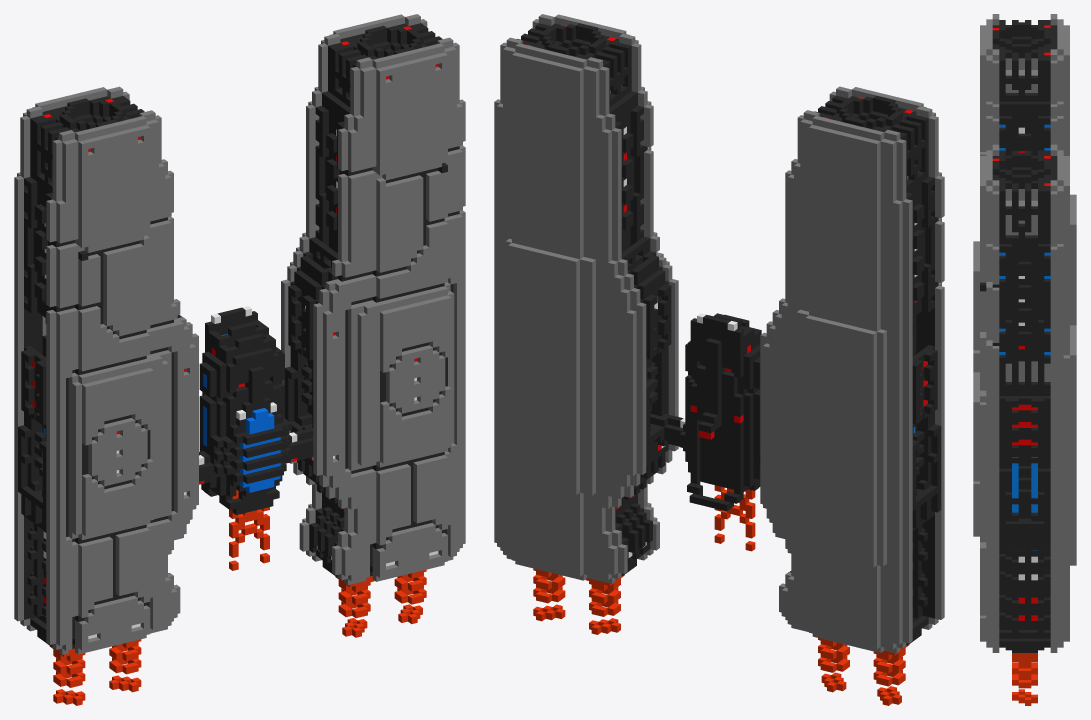
File: DualStriker.glb
The picture shows the model from 3 angles, left to right: view 1: azimuth 30°, elevation 25°; view 2: azimuth 150°, elevation 25°; view 3: azimuth 270°, elevation 25°; orthographic projection. The views are drawn at different scales.
Parts seen in each view (by area): view 1: Untitled; view 2: Untitled; view 3: Untitled.
Boxes of the visible parts, bbox=[...] form: Untitled: bbox=[14, 14, 465, 705]; Untitled: bbox=[494, 14, 944, 705]; Untitled: bbox=[973, 14, 1076, 705].
Size of the model in its own units: 6.7 by 9 by 1.6.
Materials: 1 (1 with a texture image).
